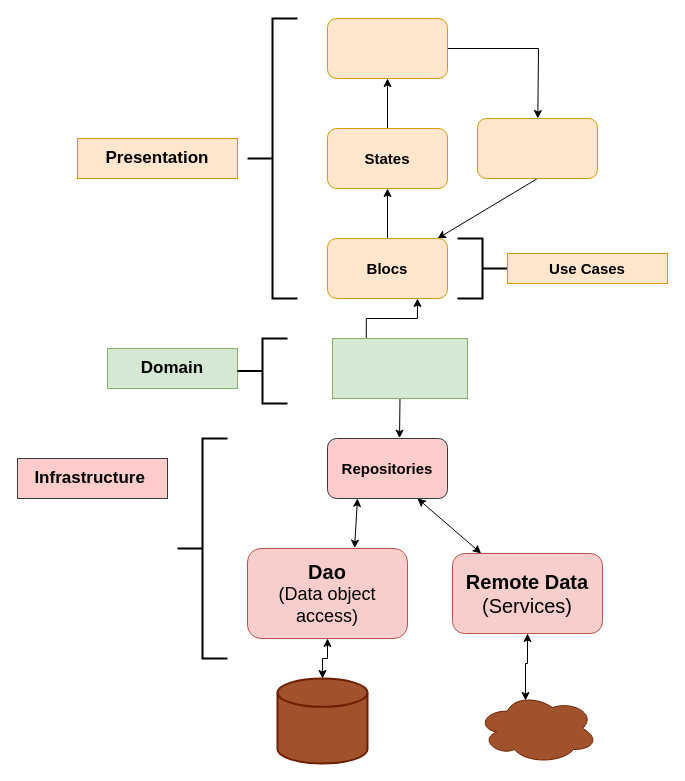
Some shapes in this 685 by 781 pixel diagram are drawn without their labels. Each missing label, with the centre of its shape:
"Api" belongs at point 537,728.
"Data Objects" belongs at point 400,368.
"Events" belongs at point 537,148.
"Local DB" belongs at point 322,720.
"Widget" belongs at point 387,48.
